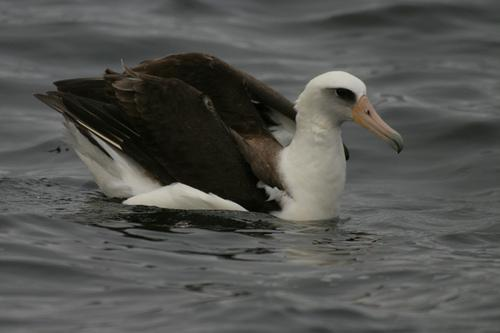002.Laysan_Albatross: (36, 52, 404, 225)
